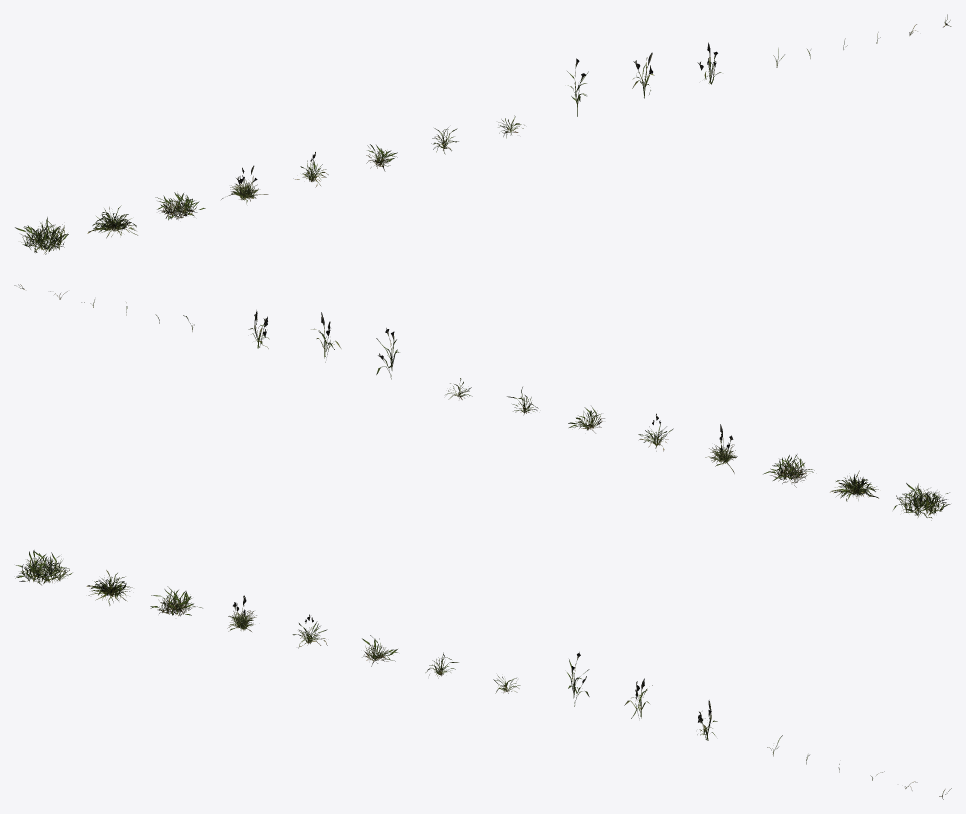
Rendered from grass_medium_01_lod.glb.
3 renders of one model, top to bottom at view 1: azimuth 30°, elevation 25°; view 2: azimuth 150°, elevation 25°; view 3: azimuth 330°, elevation 25°, orthographic.
Visible parts, largest first — view 1: grass_medium_01_large_a_LOD0, grass_medium_01_large_c_LOD0, grass_medium_01_large_b_LOD0; view 2: grass_medium_01_large_a_LOD0, grass_medium_01_large_c_LOD0, grass_medium_01_large_b_LOD0; view 3: grass_medium_01_large_a_LOD0, grass_medium_01_large_c_LOD0, grass_medium_01_large_b_LOD0.
Boxes of the visible parts, <box> form: grass_medium_01_large_a_LOD0: <box>15,217,68,254</box>; grass_medium_01_large_c_LOD0: <box>155,192,205,220</box>; grass_medium_01_large_b_LOD0: <box>87,205,137,238</box>; grass_medium_01_large_a_LOD0: <box>893,483,950,520</box>; grass_medium_01_large_c_LOD0: <box>763,454,814,487</box>; grass_medium_01_large_b_LOD0: <box>830,470,878,501</box>; grass_medium_01_large_a_LOD0: <box>15,550,72,585</box>; grass_medium_01_large_c_LOD0: <box>150,586,202,616</box>; grass_medium_01_large_b_LOD0: <box>86,570,132,605</box>.
Bounding box in the file's own units: 5.61 × 0.3418 × 0.3173.
Materials: 1 (1 with a texture image).
